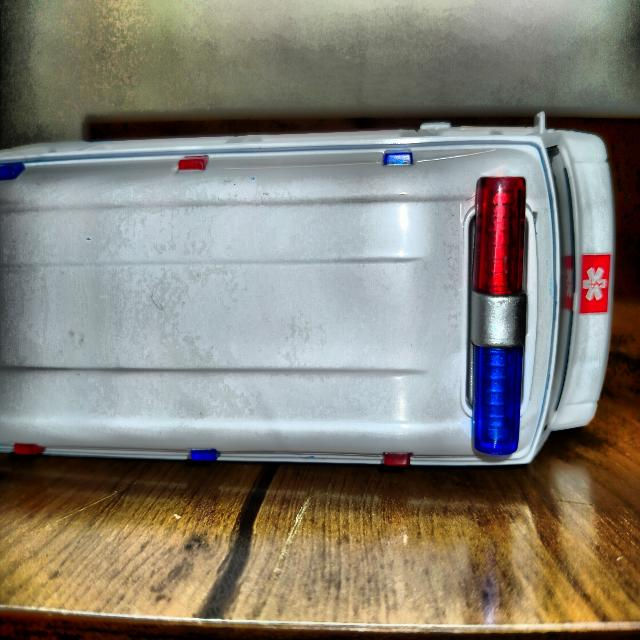Ambulance: (0, 123, 614, 466)
